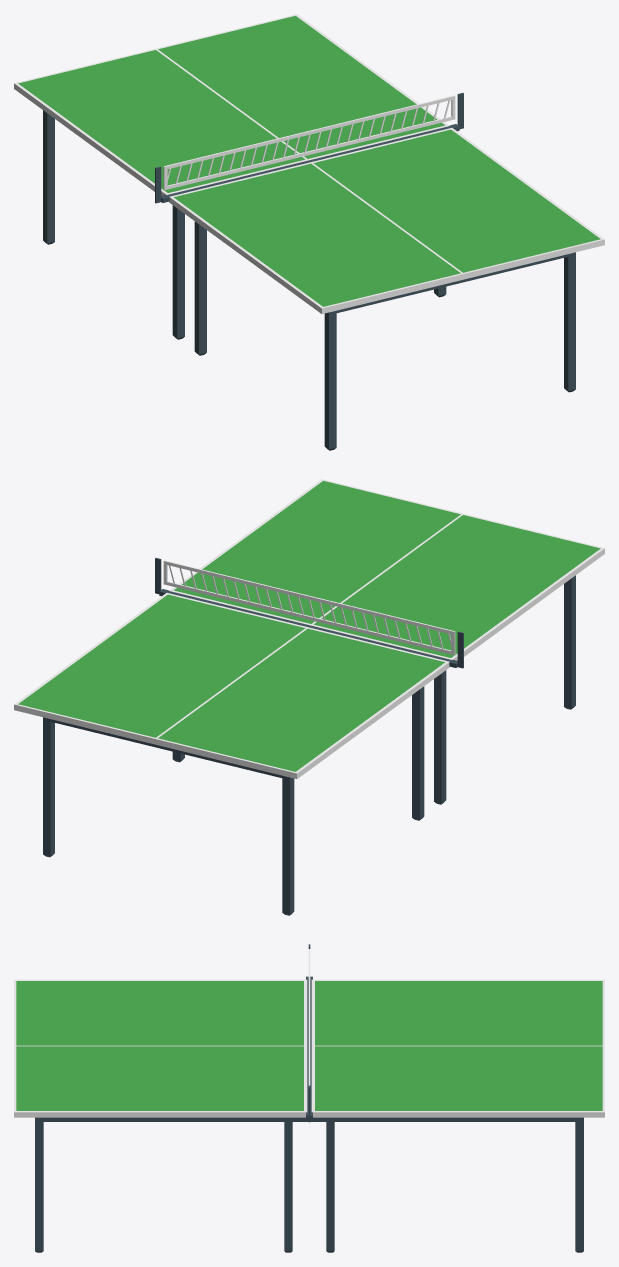
File: table-tennis-table-by-jeremy-c_BDr31X5_-.glb
3 views of the same model, one above another, from view 1: azimuth 30°, elevation 25°; view 2: azimuth 150°, elevation 25°; view 3: azimuth 270°, elevation 25° (orthographic). The views are drawn at different scales.
Parts seen in each view (by area): view 1: Table_Tennis_Table_Cube.032; view 2: Table_Tennis_Table_Cube.032; view 3: Table_Tennis_Table_Cube.032.
Part boxes in pixels (x1,y1,x2,y2): Table_Tennis_Table_Cube.032: (14,14,604,450); Table_Tennis_Table_Cube.032: (14,479,604,915); Table_Tennis_Table_Cube.032: (14,944,604,1252).
Size of the model in its own units: 17.52 by 10.13 by 30.32.
